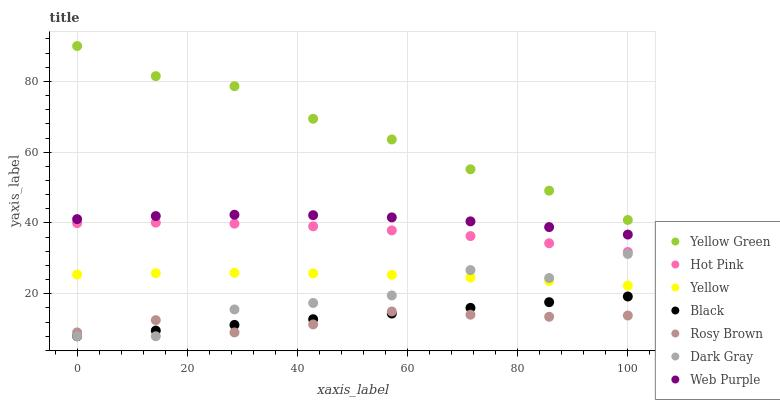axis: (55, 346, 653, 355), (42, 30, 55, 347)
legend: (654, 221, 780, 400)
point: (151, 72, 161, 83), (72, 272, 82, 283), (544, 238, 555, 248), (387, 223, 397, 233), (388, 134, 398, 144), (466, 218, 477, 227), (625, 214, 633, 226), (74, 41, 82, 53), (151, 212, 161, 221), (151, 325, 162, 333), (152, 268, 161, 277), (232, 212, 241, 221), (232, 327, 239, 338), (152, 221, 161, 229), (154, 333, 162, 342), (310, 314, 319, 322), (466, 265, 474, 274), (73, 331, 82, 339), (151, 316, 161, 323), (623, 313, 633, 320), (545, 313, 556, 319), (546, 273, 554, 281), (232, 304, 239, 313), (389, 308, 396, 317), (466, 166, 475, 173), (469, 312, 476, 321), (546, 298, 553, 306), (309, 223, 317, 230), (626, 295, 634, 301), (627, 249, 633, 257), (547, 188, 553, 196)
